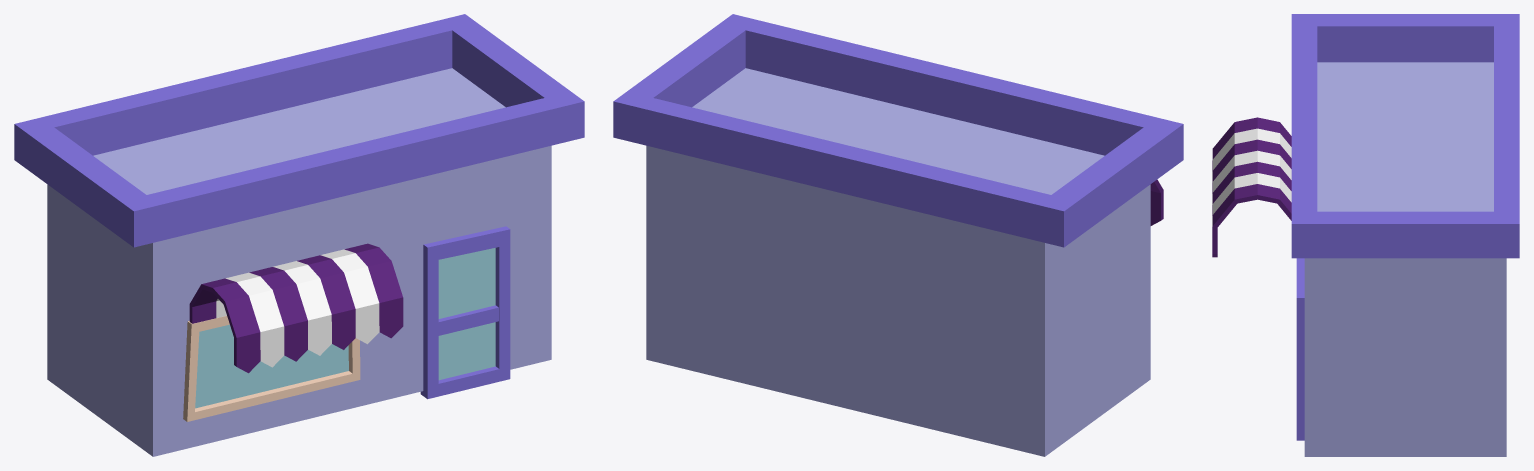
File: Purple_house_small_1.fbx
3 renders of one model, left to right at view 1: azimuth 30°, elevation 25°; view 2: azimuth 150°, elevation 25°; view 3: azimuth 270°, elevation 25°, orthographic. The views are drawn at different scales.
Parts seen in each view (by area): view 1: Purple house small 1; view 2: Purple house small 1; view 3: Purple house small 1.
Boxes of the visible parts, x1=… form: Purple house small 1: x1=14, y1=14, x2=584, y2=456; Purple house small 1: x1=613, y1=14, x2=1183, y2=456; Purple house small 1: x1=1212, y1=14, x2=1519, y2=456.
Bounding box in the file's own units: 1376 × 764 × 851.
